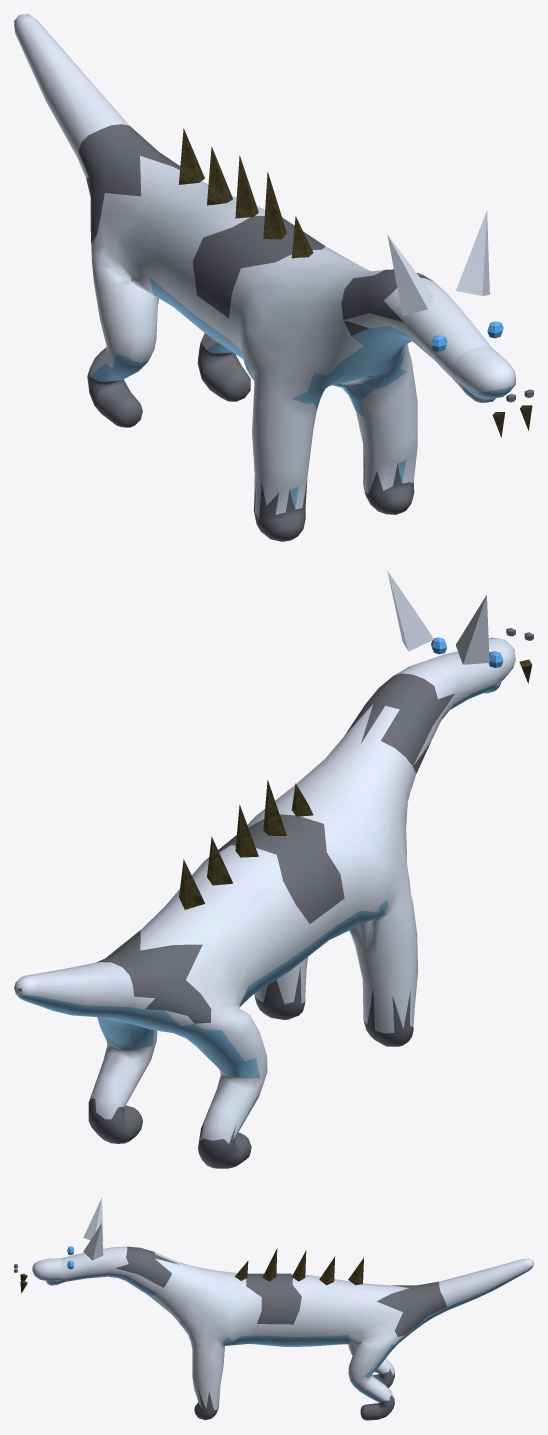
The model's file is mon_sp_ice_fox.glb.
The picture shows the model from 3 angles, top to bottom: view 1: azimuth 30°, elevation 25°; view 2: azimuth 150°, elevation 25°; view 3: azimuth 270°, elevation 25°; orthographic projection. The views are drawn at different scales.
Visible parts, largest first — view 1: mon_sp_ice_fox; view 2: mon_sp_ice_fox; view 3: mon_sp_ice_fox.
Boxes of the visible parts, box(x1,y1,x2,y2) form: mon_sp_ice_fox: box(14, 14, 533, 541); mon_sp_ice_fox: box(14, 571, 533, 1168); mon_sp_ice_fox: box(14, 1198, 533, 1420).
Bounding box in the file's own units: 0.3244 × 0.7447 × 1.79.
Materials: 5 (4 with a texture image).
